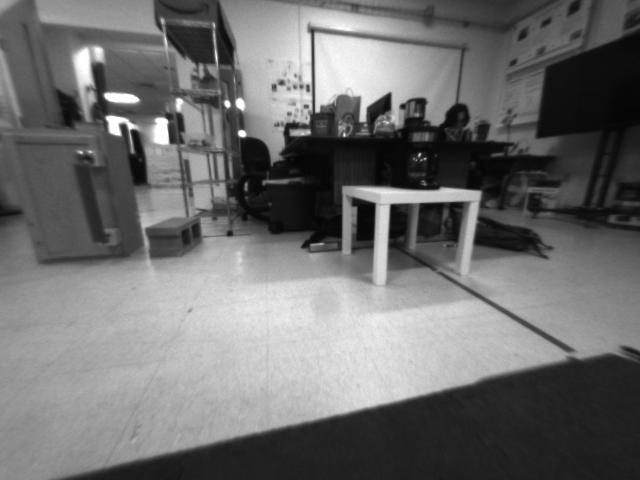coffee_pot: (399, 125, 442, 188)
